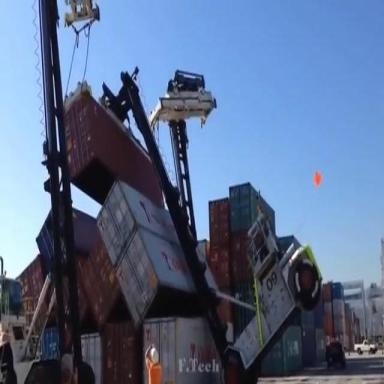forklift: (112, 33, 336, 384)
